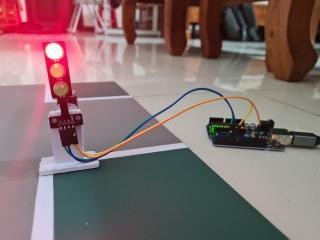red: (34, 35, 88, 120)
